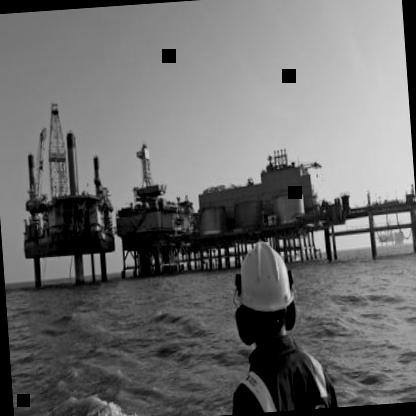helmet: (225, 230, 301, 359)
